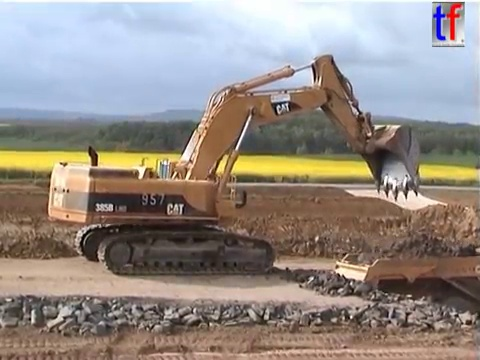excavator: (44, 51, 425, 278)
truck: (331, 245, 480, 347)
